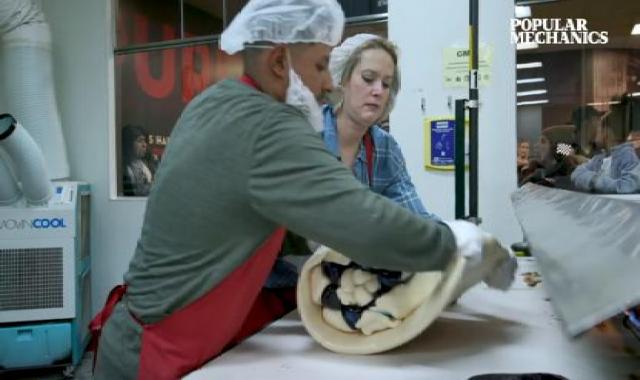hairnet: (212, 1, 358, 56), (326, 34, 414, 88)
